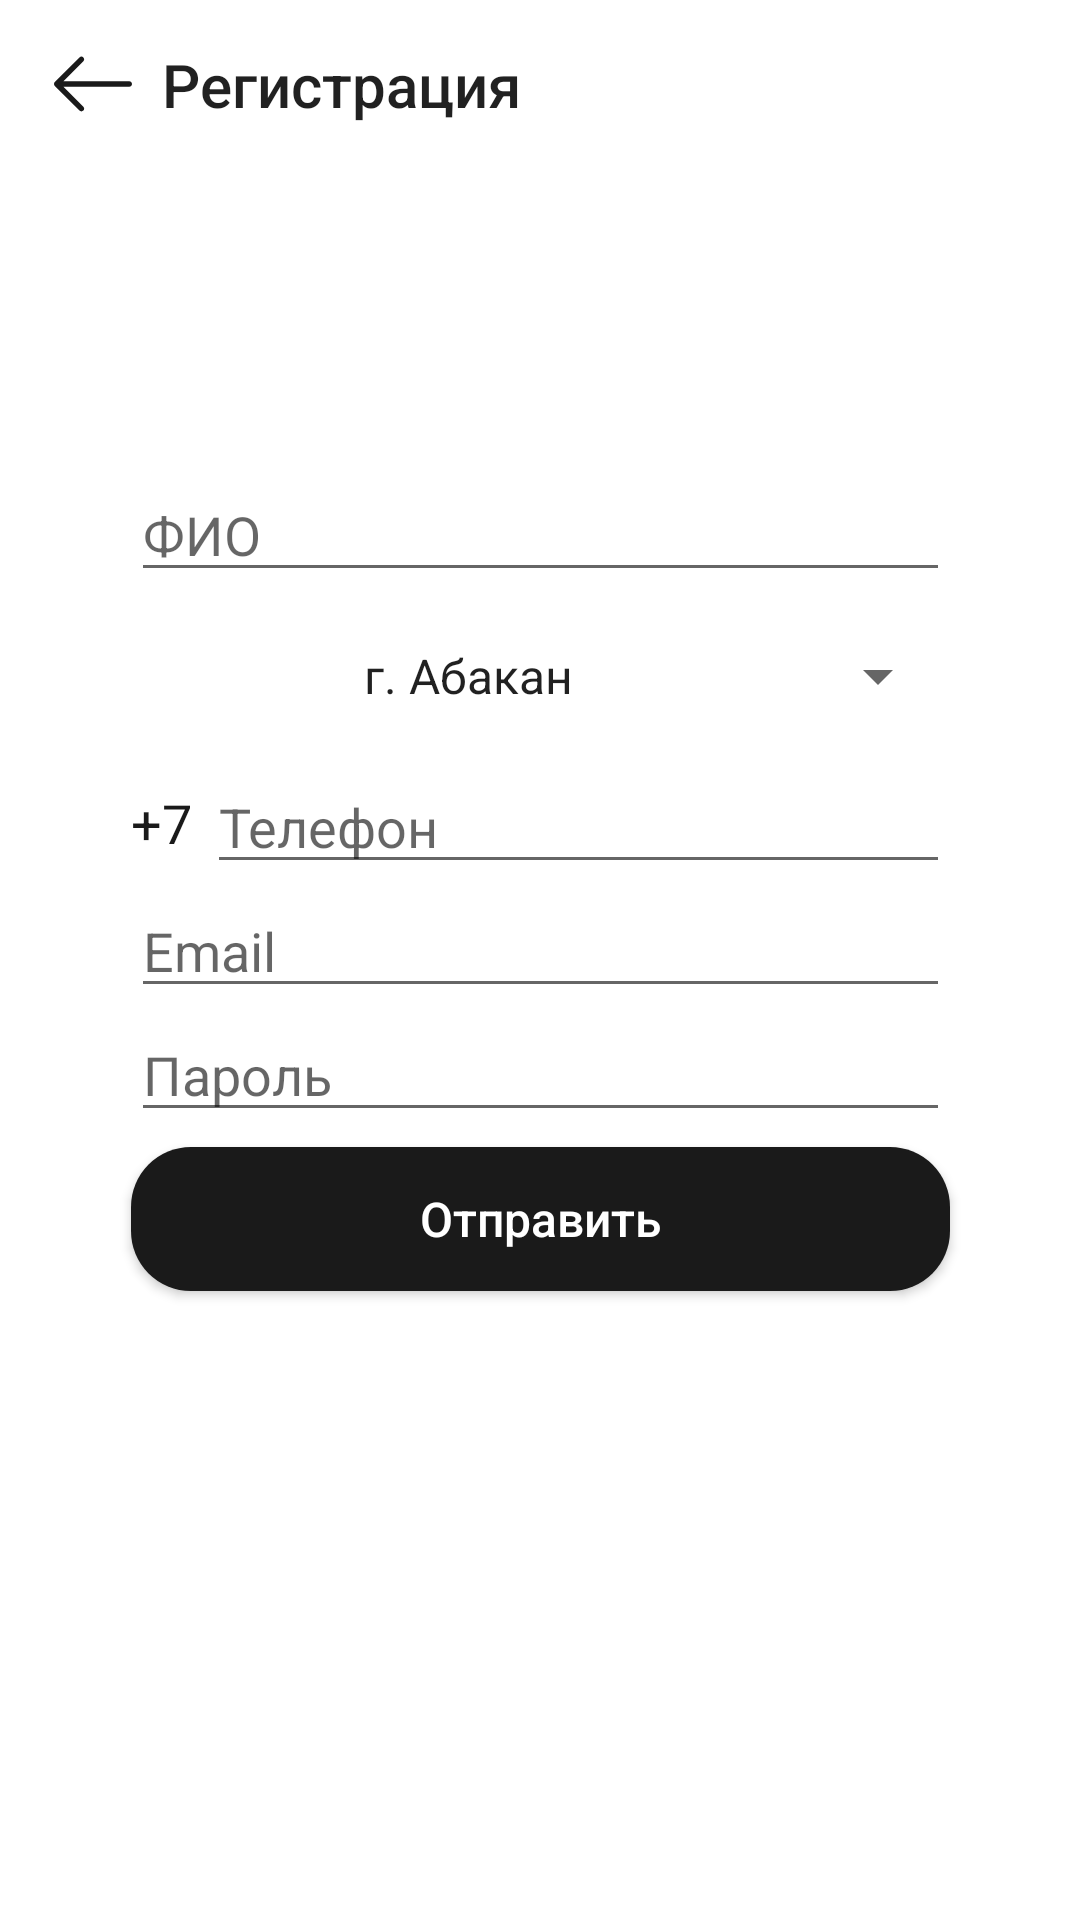

Screen size 1080×1920. Icon name, then its box in pixels as (x1=x1, y1=y1, x2=x2, y2=y2):
back: (x1=54, y1=56, x2=132, y2=112)
